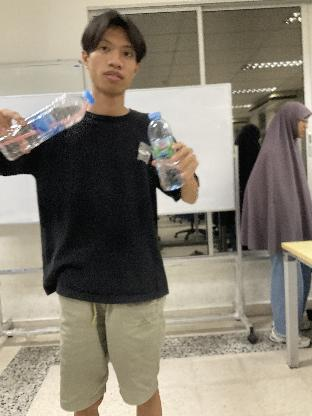Plastic Bottle: (1, 89, 95, 159), (148, 110, 188, 192)
